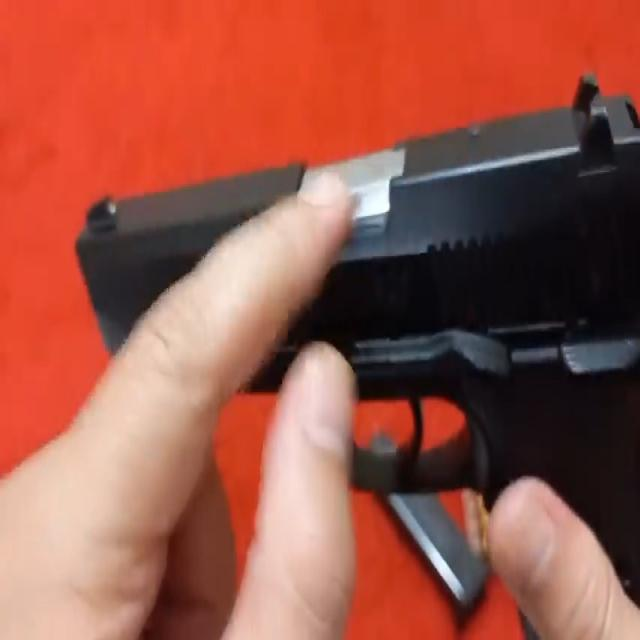handgun: (74, 100, 640, 498)
